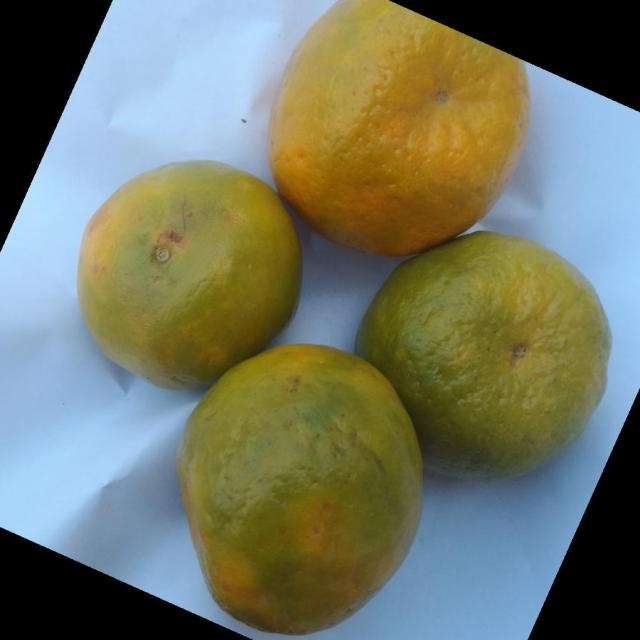agrume: (175, 342, 424, 635), (266, 0, 530, 257), (354, 229, 612, 481), (75, 157, 302, 391)
